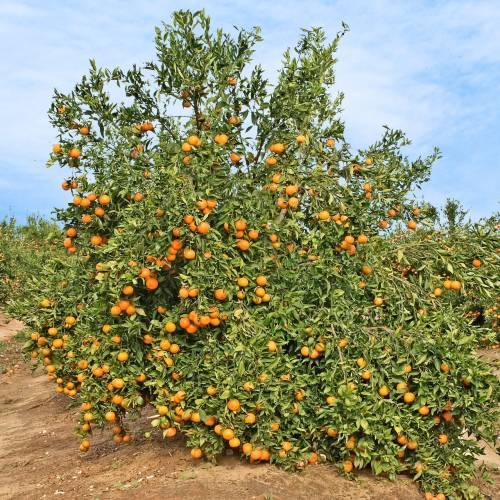orange: (264, 339, 278, 354), (227, 397, 241, 412), (405, 437, 420, 451), (222, 427, 236, 441), (195, 220, 210, 233), (214, 132, 228, 145), (147, 279, 161, 292), (214, 287, 227, 301), (189, 409, 202, 423), (183, 246, 196, 260), (234, 217, 247, 231), (342, 460, 355, 474), (229, 113, 242, 126), (90, 234, 103, 247), (117, 298, 130, 311), (159, 338, 172, 351), (191, 446, 204, 459), (307, 452, 320, 465), (226, 73, 238, 86), (276, 197, 288, 210), (237, 276, 250, 288), (255, 275, 268, 287), (299, 345, 312, 357), (336, 336, 349, 348), (293, 388, 305, 401), (244, 412, 257, 424), (165, 321, 177, 334), (163, 426, 176, 438), (229, 435, 241, 448), (242, 442, 254, 455), (403, 391, 416, 403), (418, 404, 431, 416), (182, 99, 194, 111), (229, 151, 241, 163), (55, 104, 67, 116), (69, 147, 81, 159), (122, 284, 134, 296), (113, 377, 125, 389), (304, 325, 316, 337), (178, 317, 190, 329), (378, 217, 390, 229), (356, 356, 368, 368), (65, 227, 78, 238), (139, 267, 152, 278), (117, 351, 128, 364), (242, 382, 255, 393), (209, 307, 220, 320), (208, 316, 221, 327), (187, 219, 198, 232), (378, 384, 389, 397), (183, 407, 193, 421), (326, 136, 337, 148), (274, 141, 285, 153), (326, 166, 337, 178), (273, 172, 285, 183), (287, 184, 298, 196), (110, 305, 121, 317), (110, 335, 122, 346), (315, 341, 326, 353), (326, 394, 338, 405), (290, 403, 302, 414), (269, 421, 281, 432), (206, 386, 218, 397), (168, 343, 180, 354), (188, 310, 199, 322), (199, 315, 211, 326), (160, 416, 171, 428), (172, 413, 184, 424), (250, 448, 262, 459), (260, 449, 271, 461), (172, 226, 183, 238), (183, 212, 195, 223), (196, 198, 207, 210), (207, 197, 218, 209), (249, 228, 260, 240), (239, 239, 250, 251), (346, 242, 357, 254), (361, 263, 372, 275), (402, 362, 413, 374), (397, 433, 408, 445), (438, 434, 450, 445), (357, 233, 369, 244), (146, 271, 159, 281), (142, 335, 155, 345), (295, 134, 306, 145), (135, 141, 146, 152), (268, 182, 279, 193), (133, 191, 144, 202), (95, 207, 106, 218), (81, 214, 92, 225), (40, 298, 51, 309), (112, 395, 123, 406), (119, 398, 130, 409), (255, 286, 266, 297), (261, 292, 272, 303), (257, 373, 268, 384), (327, 426, 338, 437), (204, 414, 215, 425), (282, 441, 293, 452), (171, 240, 182, 251), (373, 295, 384, 306), (472, 258, 483, 269), (444, 412, 455, 423), (414, 462, 425, 473), (267, 143, 277, 155), (156, 207, 166, 219), (46, 362, 56, 374), (101, 361, 111, 373), (156, 305, 168, 315), (179, 287, 189, 299), (309, 348, 319, 360), (214, 424, 224, 436), (155, 256, 165, 268), (451, 279, 461, 291), (361, 368, 371, 380), (397, 381, 409, 391), (461, 375, 471, 387), (182, 141, 192, 152), (79, 125, 89, 136), (53, 144, 63, 155), (130, 149, 140, 160), (267, 155, 277, 166), (289, 198, 300, 208), (330, 211, 341, 221), (100, 195, 111, 205), (63, 236, 73, 247), (66, 245, 77, 255), (126, 305, 136, 316), (93, 367, 103, 378), (106, 410, 116, 421), (189, 287, 199, 298), (171, 371, 182, 381), (165, 357, 175, 368), (175, 390, 185, 401), (158, 406, 169, 416), (167, 245, 178, 255), (201, 205, 212, 215), (272, 240, 283, 250), (433, 287, 443, 298), (441, 362, 451, 373), (345, 439, 356, 449), (396, 447, 406, 458), (307, 254, 319, 263), (188, 135, 198, 145), (184, 155, 194, 165), (70, 180, 80, 190), (86, 192, 96, 202), (95, 262, 105, 272), (113, 433, 123, 443), (253, 295, 263, 305), (237, 290, 247, 300), (317, 334, 327, 344), (186, 324, 196, 334), (219, 312, 229, 322), (175, 406, 185, 416), (159, 387, 169, 397), (146, 253, 156, 263), (234, 227, 244, 237), (269, 233, 279, 243), (345, 234, 355, 244), (407, 219, 417, 229), (388, 208, 398, 218), (351, 164, 361, 174), (319, 210, 330, 219), (73, 195, 82, 206), (443, 279, 452, 290), (443, 400, 452, 411), (180, 88, 190, 97), (61, 181, 71, 190), (125, 190, 134, 200), (80, 198, 90, 207), (100, 235, 109, 245), (65, 317, 75, 326), (53, 339, 63, 348), (41, 347, 51, 356), (135, 372, 144, 382), (121, 434, 131, 443), (81, 402, 91, 411), (77, 373, 86, 383), (281, 372, 291, 381), (194, 317, 203, 327), (394, 203, 404, 212), (417, 307, 426, 317), (432, 415, 441, 425), (223, 221, 231, 232), (194, 138, 203, 147), (335, 218, 344, 227), (76, 303, 85, 312), (102, 324, 111, 333), (30, 331, 39, 340), (37, 337, 46, 346), (48, 327, 57, 336), (67, 351, 76, 360), (44, 356, 53, 365), (79, 359, 88, 368), (279, 449, 288, 458), (340, 239, 349, 248), (413, 206, 422, 215), (365, 191, 374, 200), (363, 181, 372, 190), (358, 280, 367, 289), (348, 432, 357, 441), (254, 402, 263, 411), (143, 169, 151, 179), (129, 258, 139, 266), (112, 425, 122, 433), (79, 443, 87, 453), (68, 388, 78, 396), (173, 395, 181, 405), (167, 253, 177, 261), (163, 260, 171, 270), (340, 213, 348, 222), (29, 351, 38, 359), (85, 413, 93, 422), (82, 440, 91, 448), (56, 386, 64, 395), (260, 221, 268, 230), (286, 243, 294, 252), (134, 123, 143, 131), (147, 122, 155, 131), (62, 335, 70, 343), (66, 381, 74, 389), (335, 244, 343, 252), (108, 383, 115, 392), (364, 158, 373, 165), (61, 341, 68, 349), (63, 387, 70, 395), (76, 385, 83, 393), (56, 377, 63, 384), (142, 124, 149, 131), (84, 425, 90, 431)
